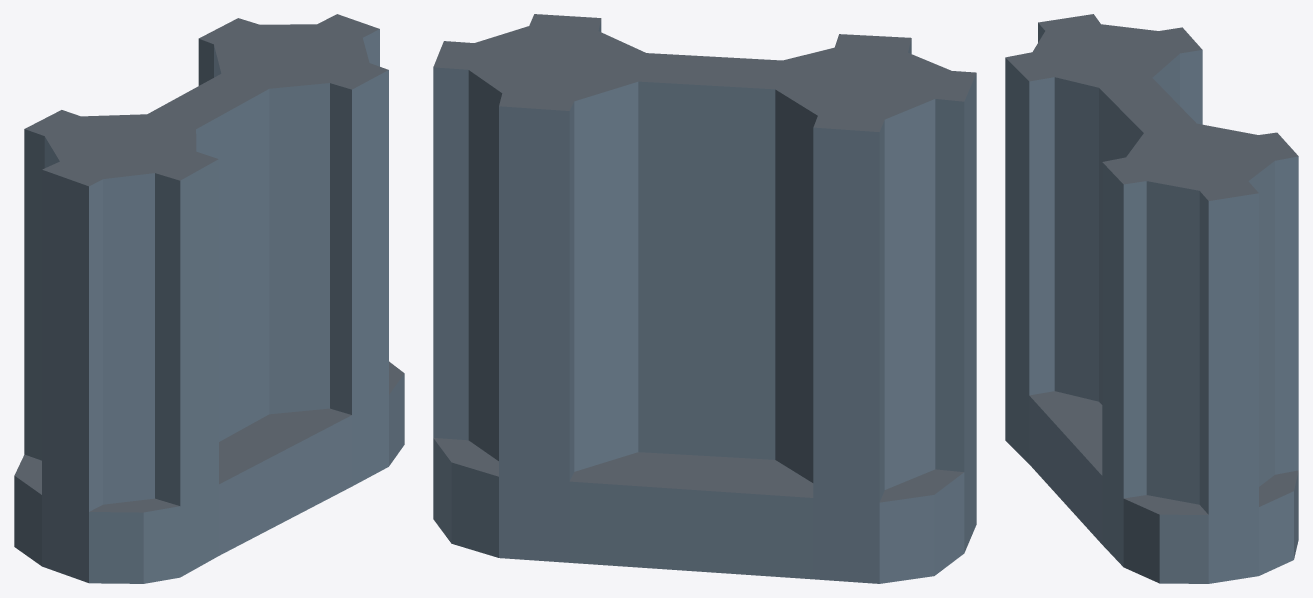
3 renders of one model, left to right at view 1: azimuth 30°, elevation 25°; view 2: azimuth 150°, elevation 25°; view 3: azimuth 270°, elevation 25°, orthographic. The views are drawn at different scales.
Parts seen in each view (by area): view 1: HP-w160895021; view 2: HP-w160895021; view 3: HP-w160895021.
Boxes of the visible parts, left/top/right/bottom form: HP-w160895021: left=14, top=14, right=404, bottom=583; HP-w160895021: left=433, top=14, right=976, bottom=583; HP-w160895021: left=1005, top=14, right=1298, bottom=583.
Size of the model in its own units: 78.75 by 75 by 52.13.
